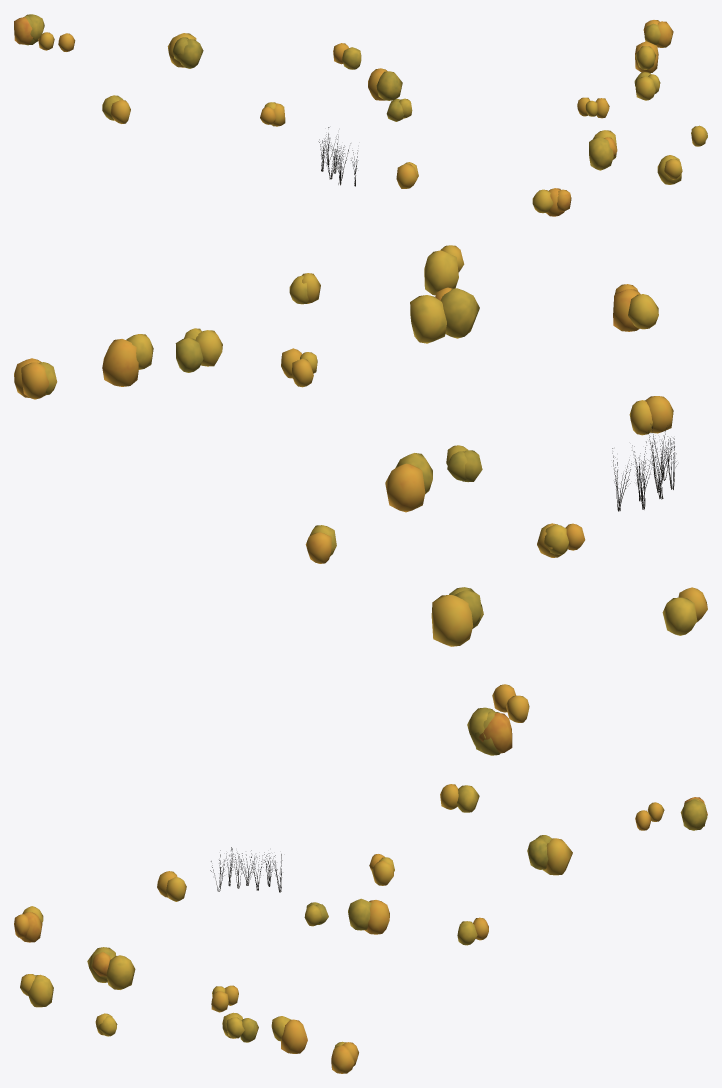
File: Exterior.fbx
3 renders of one model, top to bottom at view 1: azimuth 30°, elevation 25°; view 2: azimuth 150°, elevation 25°; view 3: azimuth 270°, elevation 25°, orthographic. The views are drawn at different scales.
Parts seen in each view (by area): view 1: Ext_TreeFar_LOD0; view 2: Ext_TreeFar_LOD0; view 3: Ext_TreeFar_LOD0.
Boxes of the visible parts, left/top/right/bottom form: Ext_TreeFar_LOD0: left=14, top=14, right=707, bottom=216; Ext_TreeFar_LOD0: left=14, top=245, right=707, bottom=755; Ext_TreeFar_LOD0: left=14, top=784, right=707, bottom=1073.
Size of what is drawn, in the model's own units: 195 by 15.57 by 212.
Materials: 2 (2 with a texture image).
